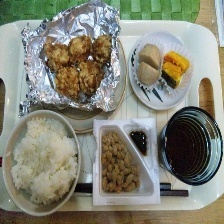rice: (7, 113, 81, 209)
